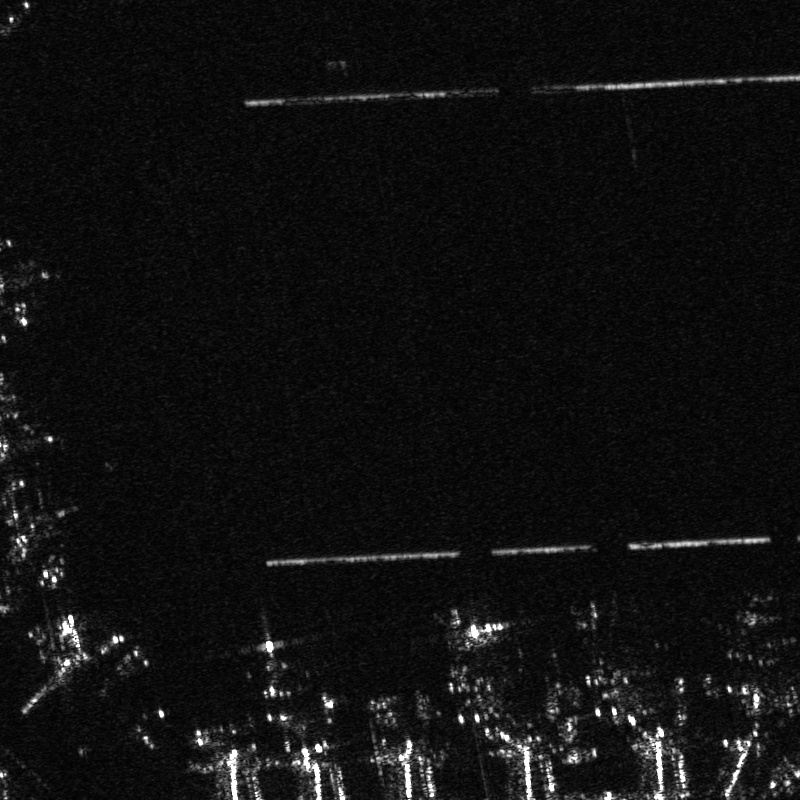A220: (240, 632, 311, 727)
A320/321: (422, 600, 513, 728), (564, 598, 649, 719)
